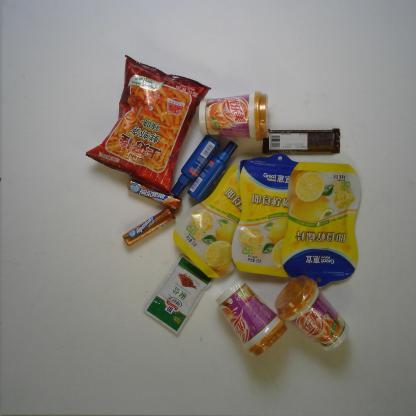Candy: (122, 206, 178, 247), (126, 180, 182, 210)
Chocolate: (262, 126, 341, 156)
Dried Fruit: (282, 162, 364, 287), (172, 158, 250, 282), (232, 153, 298, 278)
Instant Drink: (274, 276, 349, 352), (217, 281, 285, 357), (197, 90, 270, 140)
Personal Hygiene: (187, 138, 238, 204), (169, 135, 219, 197)
Puffed Food: (85, 53, 211, 193)
Seasoner: (142, 254, 214, 335)
